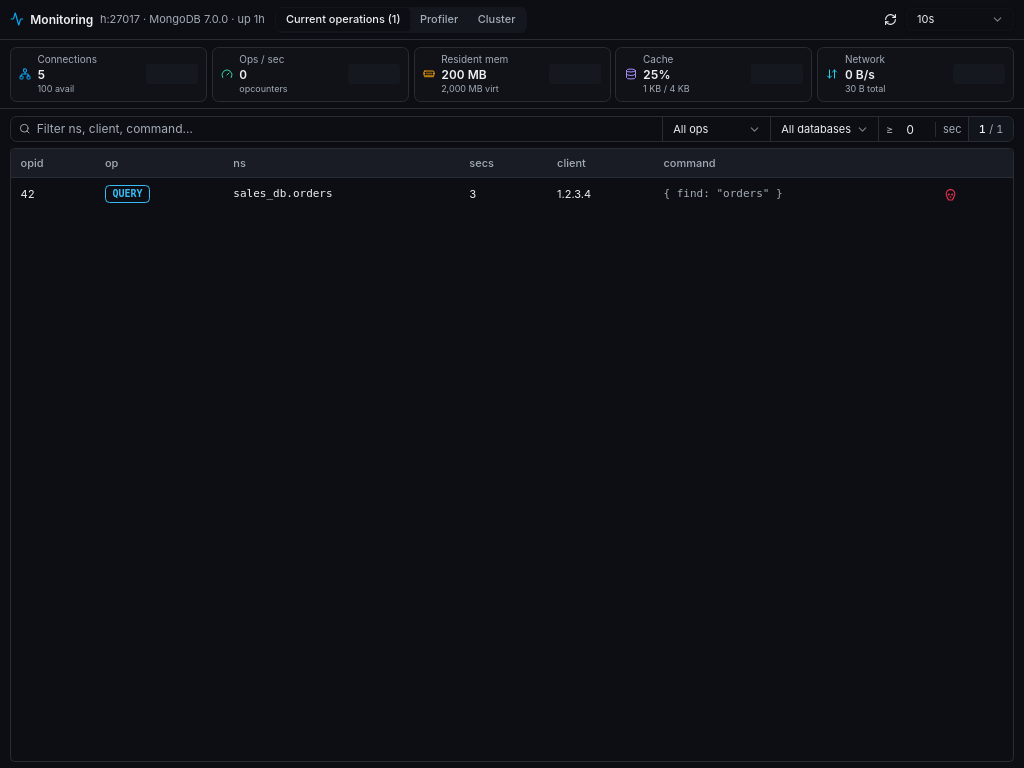
Test case: MonitoringView › filters current ops by minimum duration (secs)
The image size is (1024, 768).
Expected: the table with test id "current-ops-table" is shown, [11, 149, 1013, 210]
Replace the text in the number field with test id "ops-min-secs" with "5" at (918, 130), box [900, 117, 936, 143]
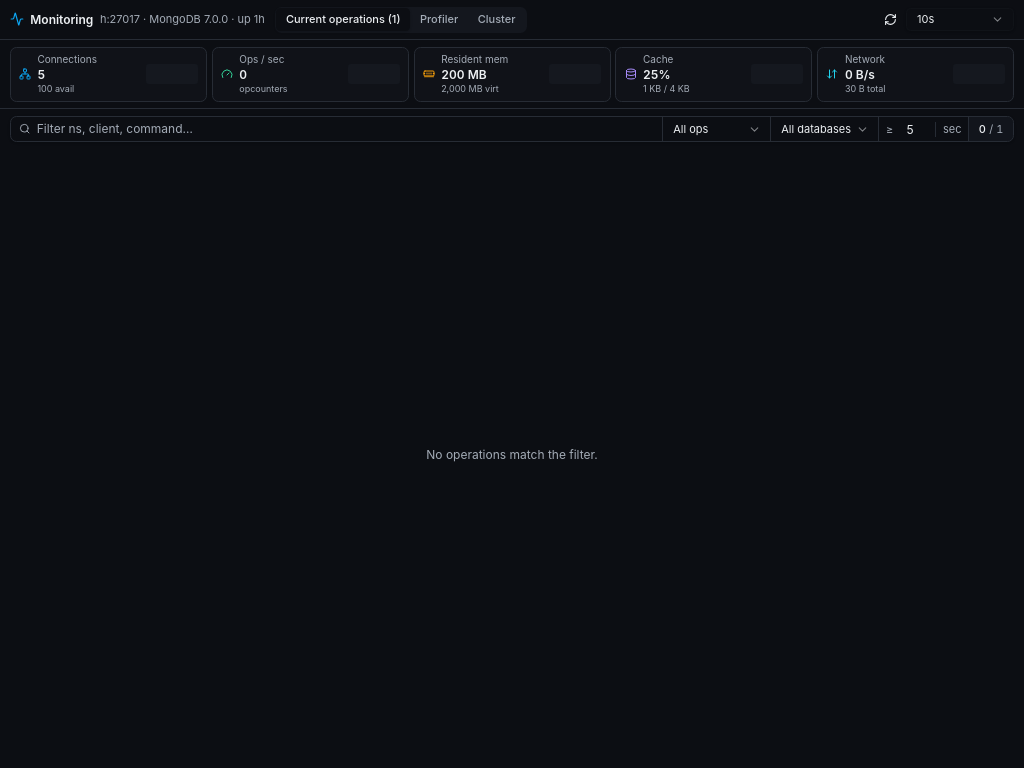
Expected: the table with test id "current-ops-table" is gone
Expected: the text "No operations match the filter." is shown, [426, 447, 598, 462]
